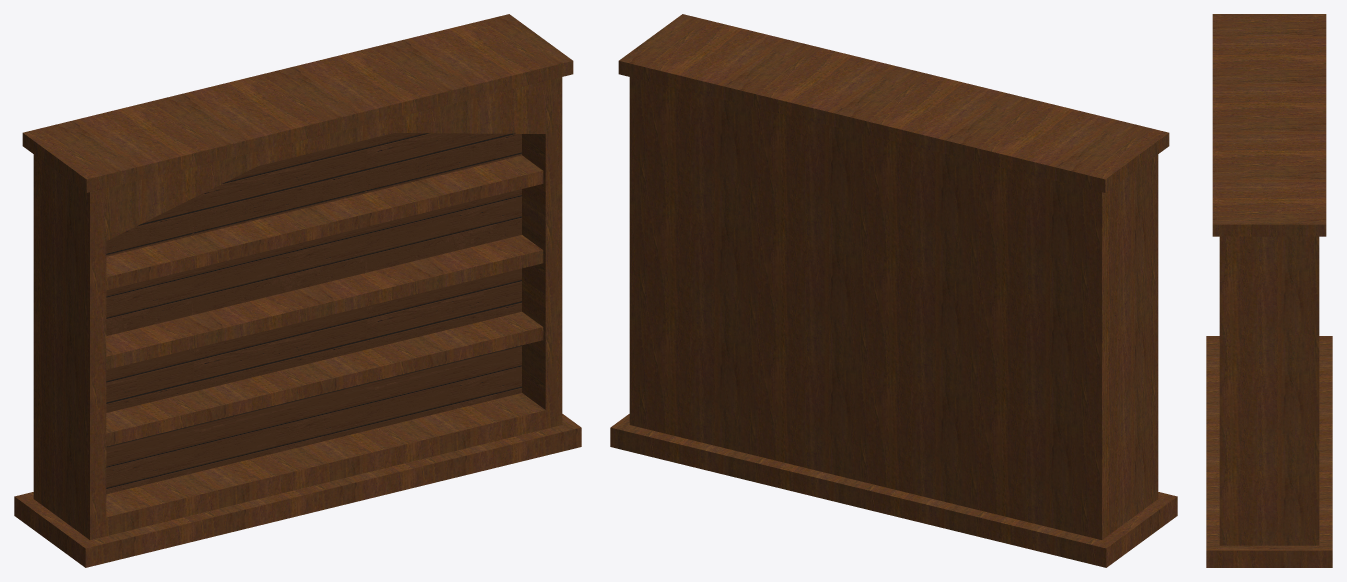
File: fbxShelf.fbx
The picture shows the model from 3 angles, left to right: view 1: azimuth 30°, elevation 25°; view 2: azimuth 150°, elevation 25°; view 3: azimuth 270°, elevation 25°; orthographic projection. The views are drawn at different scales.
Visible parts, largest first — view 1: stand; view 2: stand; view 3: stand.
Part boxes in pixels (<box>): stand: <box>14,14,581,567</box>; stand: <box>610,14,1177,567</box>; stand: <box>1206,14,1332,567</box>.
Size of the model in its own units: 3.61 by 2.68 by 0.8973.
Materials: 2 (2 with a texture image).
